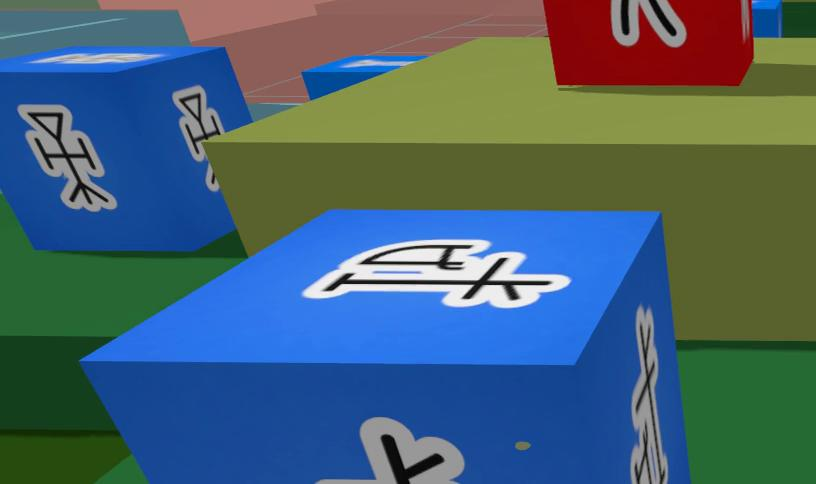KFS_FAKE: (543, 0, 756, 88), (612, 0, 684, 46)
KFS_REAL: (74, 209, 694, 484), (0, 45, 257, 251), (302, 238, 570, 308), (18, 105, 115, 211), (315, 418, 463, 484), (631, 305, 668, 484), (301, 56, 429, 100), (172, 85, 222, 191), (34, 52, 161, 63), (753, 1, 783, 36)
